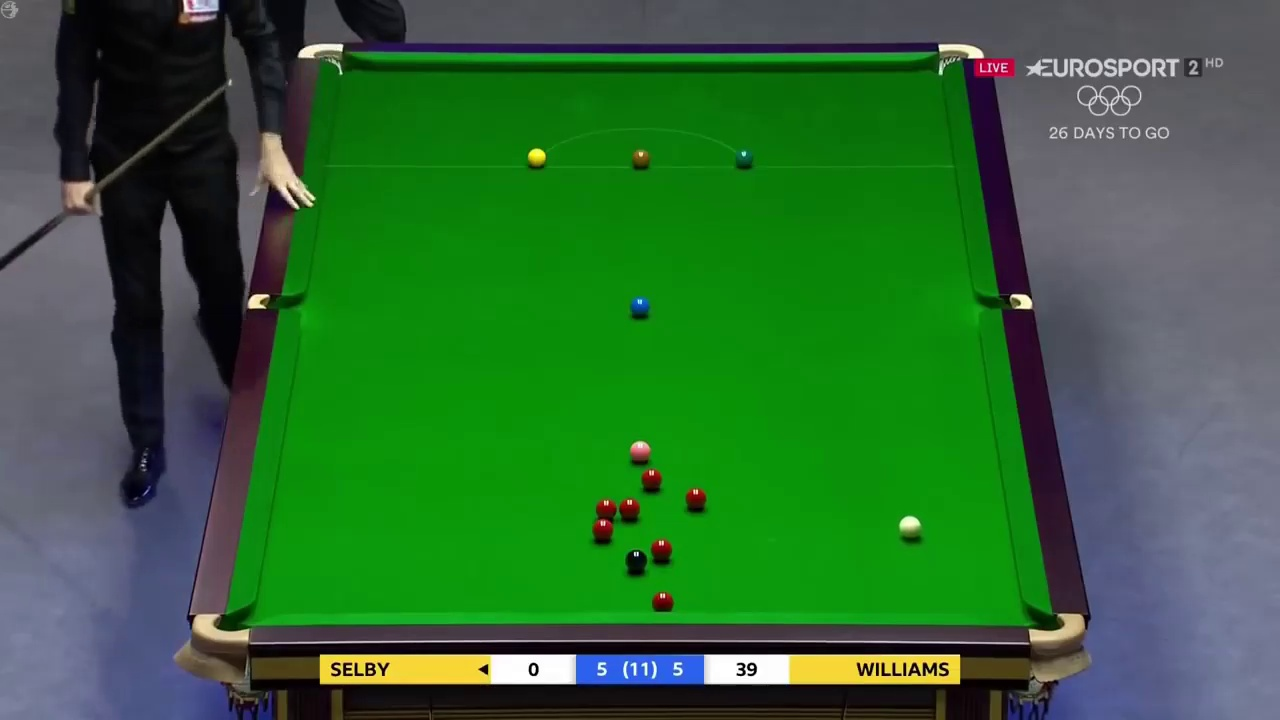black: (624, 550, 647, 574)
blue: (630, 298, 650, 318)
brown: (632, 148, 649, 168)
green: (735, 150, 755, 167)
pink: (629, 441, 650, 461)
red: (591, 517, 615, 542), (650, 537, 673, 563), (639, 468, 662, 491), (686, 486, 707, 511), (617, 498, 640, 518), (649, 593, 674, 611)
white: (897, 516, 923, 539)
yellow: (527, 146, 545, 166)
